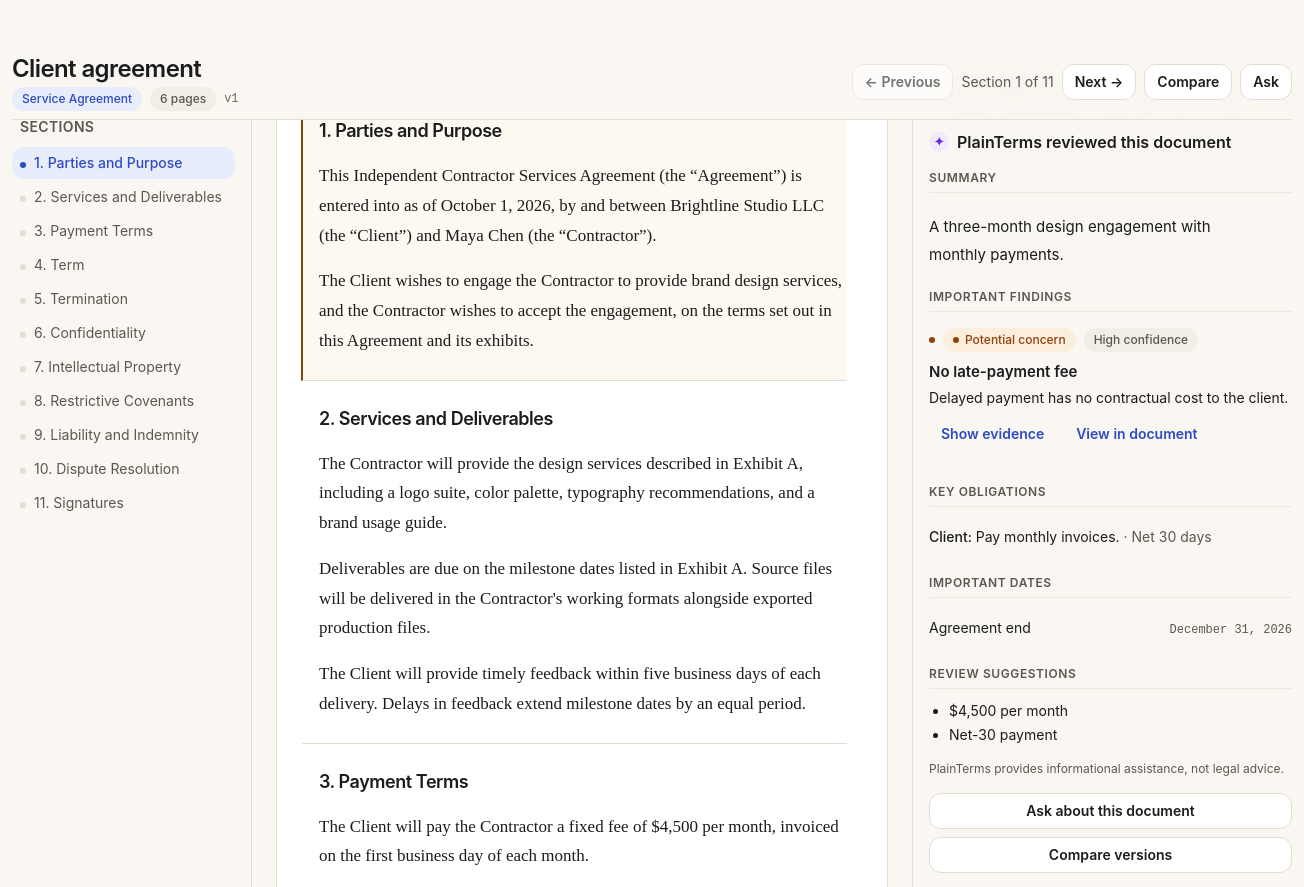
ReviewWorkspace › renders the fixture with outline, viewer, and pager
Expected: the heading "Client agreement" is shown, [12,54,201,83]
Expected: the text "Section 1 of 11" is shown, [962,72,1054,92]
Click the button "Next →".
click(1099, 82)  # box [1062,64,1136,100]
(page scrolled)
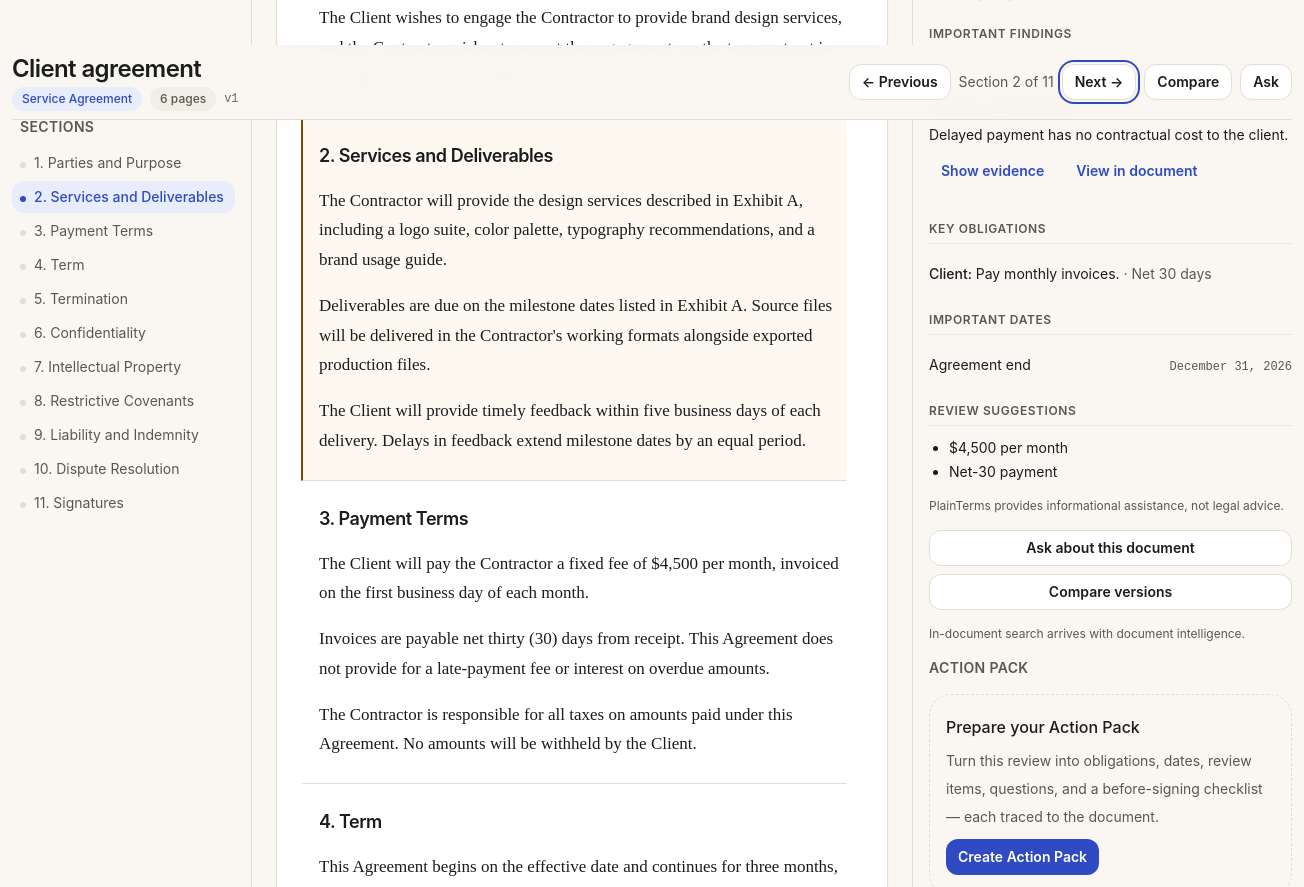
Now the text "Section 2 of 11" is shown, box [959,72,1054,92]
